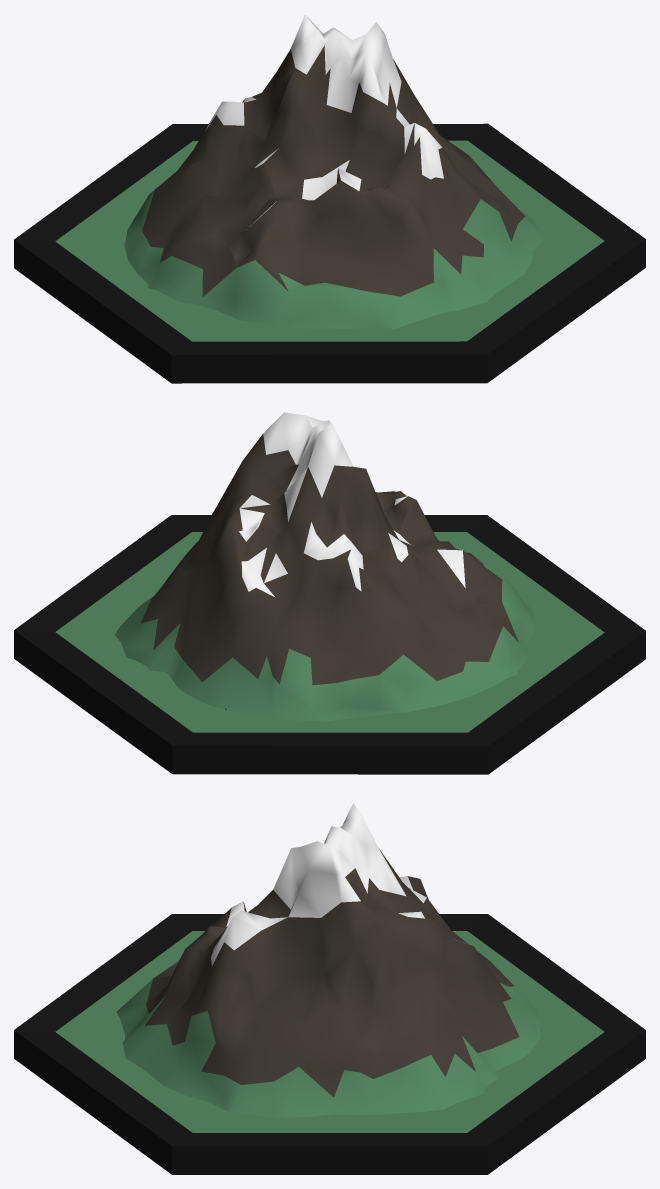
The model's file is Tile_Mountain.fbx.
The picture shows the model from 3 angles, top to bottom: view 1: azimuth 30°, elevation 25°; view 2: azimuth 150°, elevation 25°; view 3: azimuth 270°, elevation 25°; orthographic projection.
Visible parts, largest first — view 1: Mountain Tile; view 2: Mountain Tile; view 3: Mountain Tile.
Part boxes in pixels (box(x1,y1,x2,y2)): Mountain Tile: box(14, 15, 645, 383); Mountain Tile: box(14, 412, 645, 774); Mountain Tile: box(14, 803, 645, 1174).
Bounding box in the file's own units: 200 × 100 × 230.
